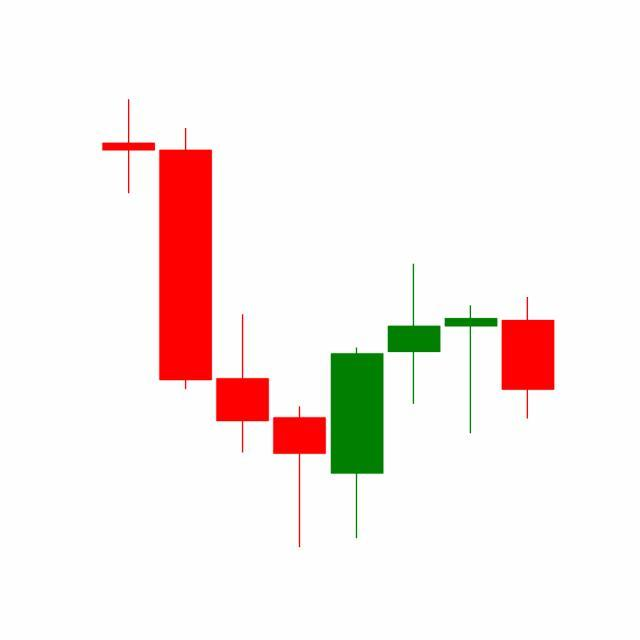Advance Block: (328, 261, 500, 542)
